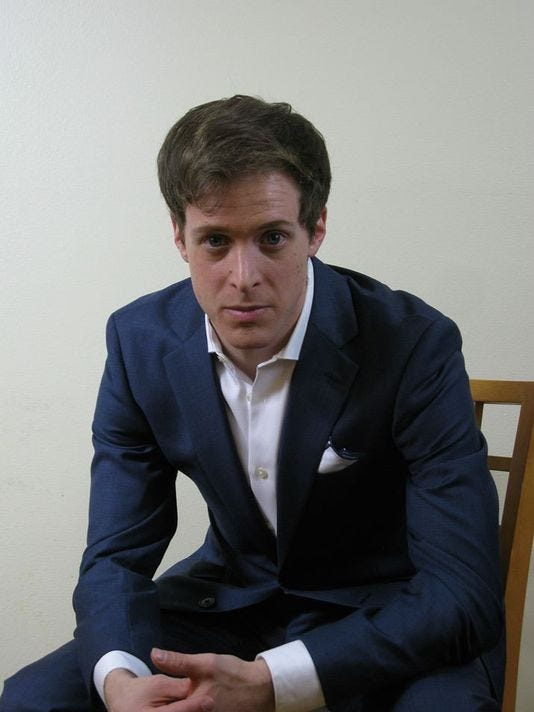bad: (167, 202, 322, 356)
